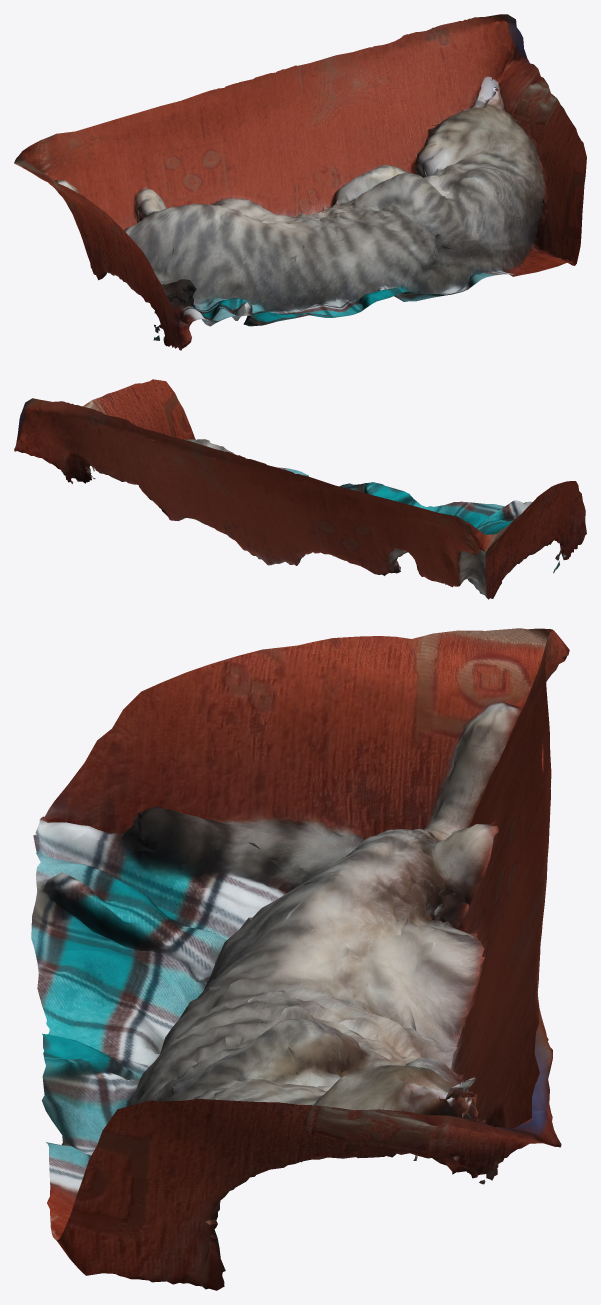
Rendered from sleepingcat2.gltf.
The picture shows the model from 3 angles, top to bottom: view 1: azimuth 30°, elevation 25°; view 2: azimuth 150°, elevation 25°; view 3: azimuth 270°, elevation 25°; orthographic projection. The views are drawn at different scales.
Parts seen in each view (by area): view 1: Object_2; view 2: Object_2; view 3: Object_2.
Part boxes in pixels (x1,y1,x2,y2): Object_2: [14, 14, 586, 350]; Object_2: [14, 379, 586, 599]; Object_2: [31, 628, 569, 1290].
Size of the model in its own units: 1.15 by 0.3622 by 0.5604.
Materials: 1 (1 with a texture image).
